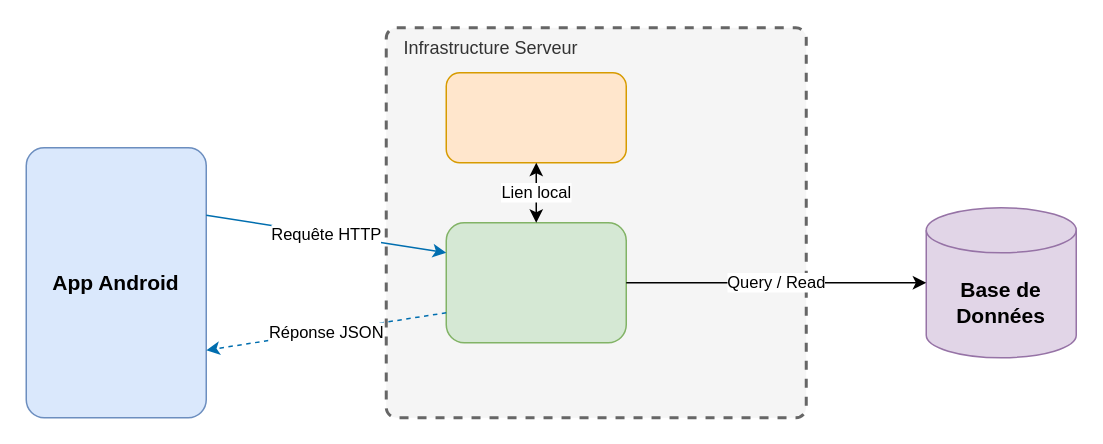
Some shapes in this 1103 by 444 pixel diagram are drawn without their labels. The centre of each missing label's shape, as x and y in pixels:
"API REST" goes at (535,282).
"Serveur Web" goes at (535,117).
